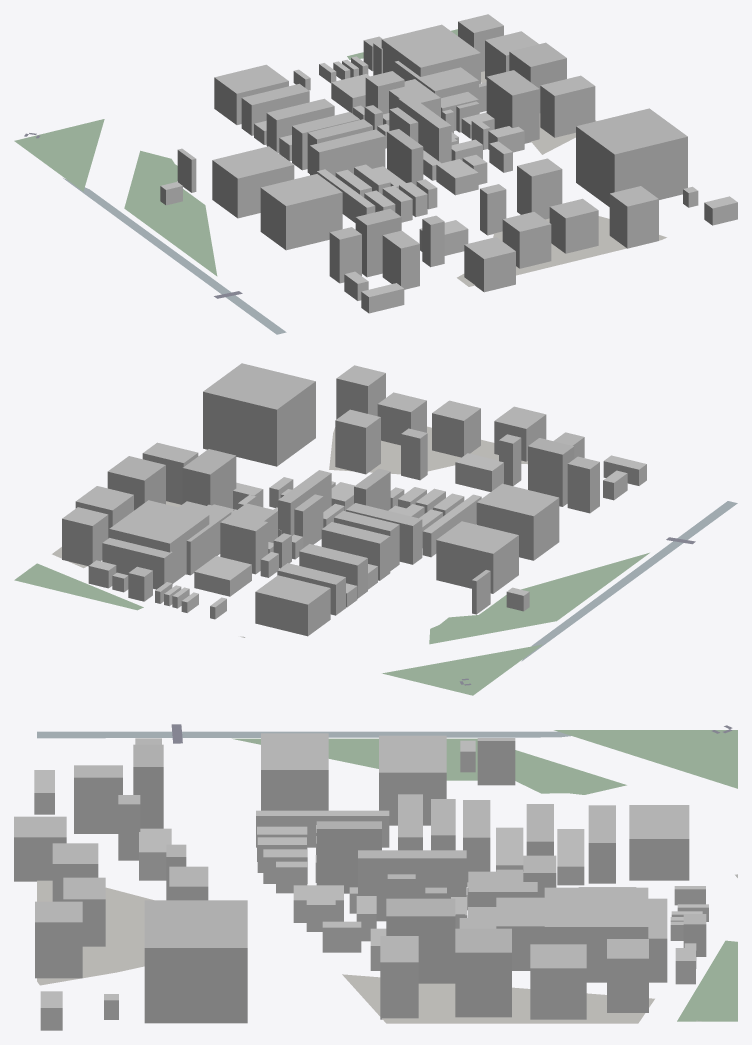
File: 128_92_mid.glb
The picture shows the model from 3 angles, top to bottom: view 1: azimuth 30°, elevation 25°; view 2: azimuth 150°, elevation 25°; view 3: azimuth 270°, elevation 25°; orthographic projection. The views are drawn at different scales.
Size of the model in its own units: 518 by 61.7 by 516.
